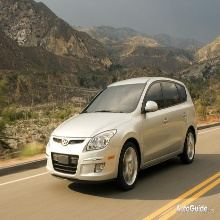no damage: (45, 75, 198, 189)
